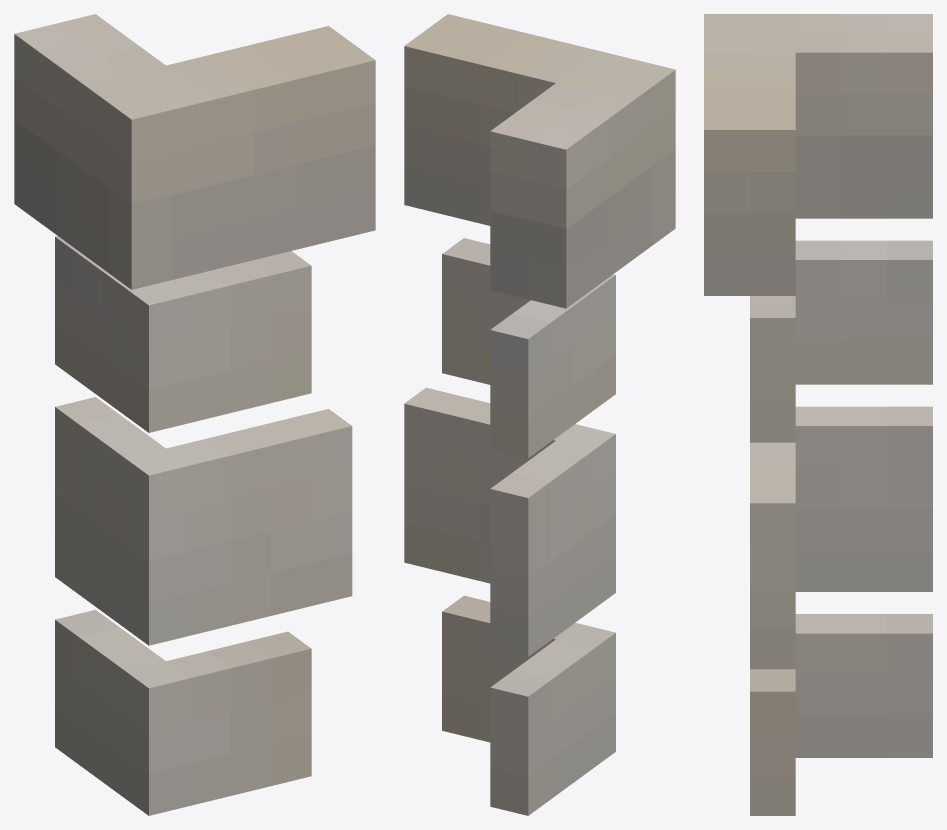
The model's file is Laterale.gltf.
3 views of the same model, side by side, from view 1: azimuth 30°, elevation 25°; view 2: azimuth 150°, elevation 25°; view 3: azimuth 270°, elevation 25° (orthographic). The views are drawn at different scales.
Visible parts, largest first — view 1: Layer.1; view 2: Layer.1; view 3: Layer.1.
Part boxes in pixels (bbox=[...]): Layer.1: bbox=[14, 14, 375, 815]; Layer.1: bbox=[404, 14, 675, 815]; Layer.1: bbox=[704, 14, 932, 815].
Size of the model in its own units: 6 by 17 by 5.
1 material, 1 textured.
